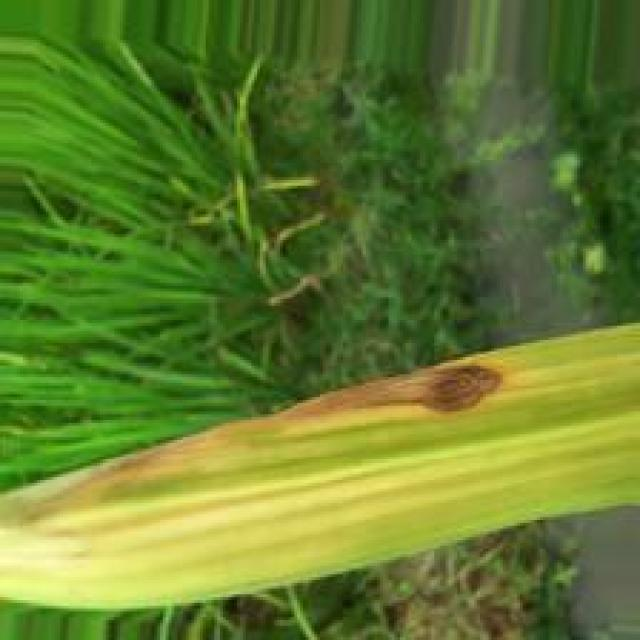Rice False Smut: (278, 362, 512, 430)
